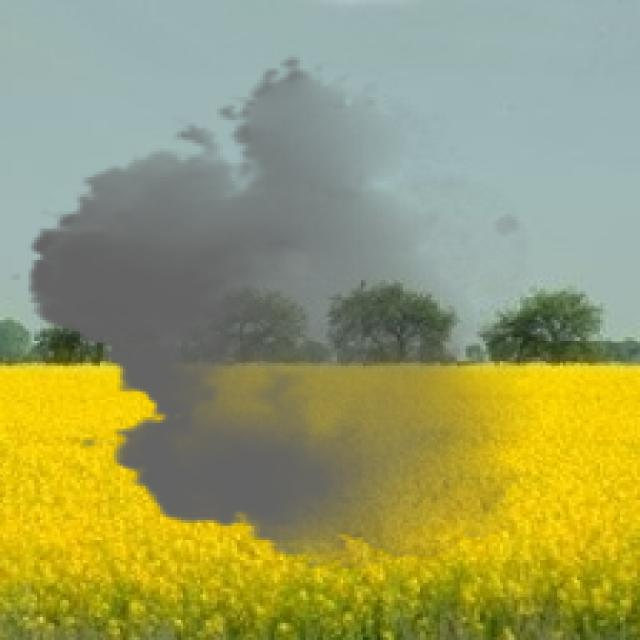smoke: (8, 54, 546, 569)
